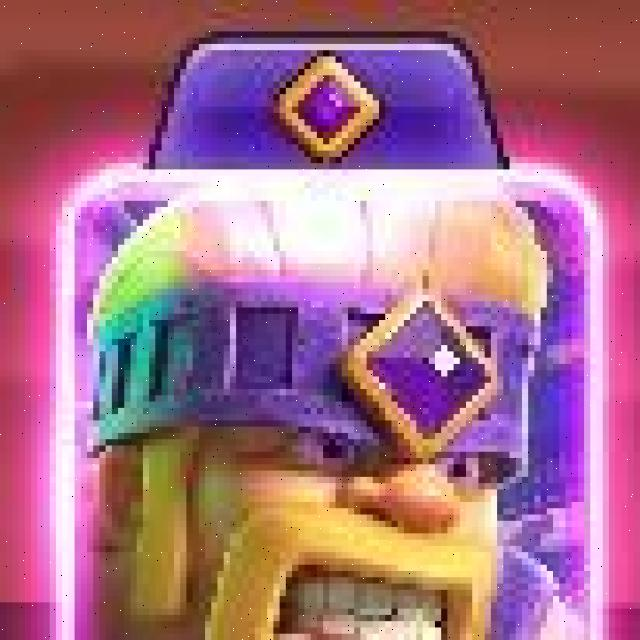Evolved_Barbarians: (48, 167, 610, 640)
